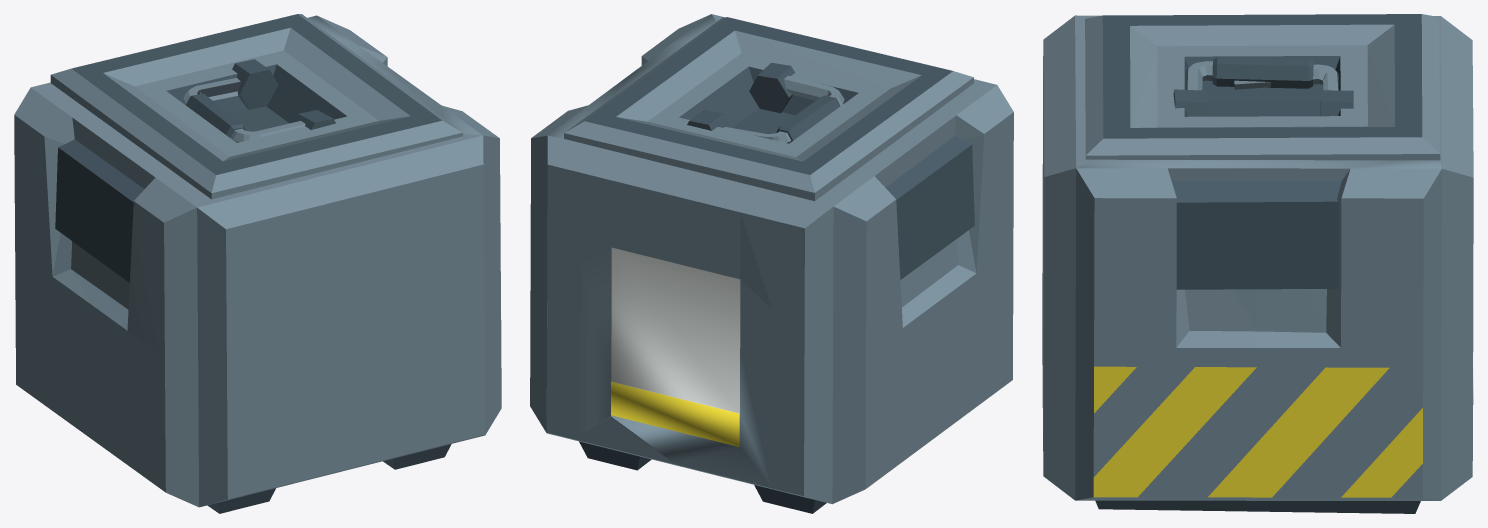
Rendered from Scifi Crate.glb.
3 renders of one model, left to right at view 1: azimuth 30°, elevation 25°; view 2: azimuth 150°, elevation 25°; view 3: azimuth 270°, elevation 25°, orthographic. The views are drawn at different scales.
Parts seen in each view (by area): view 1: Scifi Crate; view 2: Scifi Crate; view 3: Scifi Crate.
Boxes of the visible parts, bbox=[...] form: Scifi Crate: bbox=[14, 14, 501, 513]; Scifi Crate: bbox=[530, 14, 1013, 513]; Scifi Crate: bbox=[1042, 14, 1473, 513].
Bounding box in the file's own units: 0.42 × 0.4066 × 0.4191.
